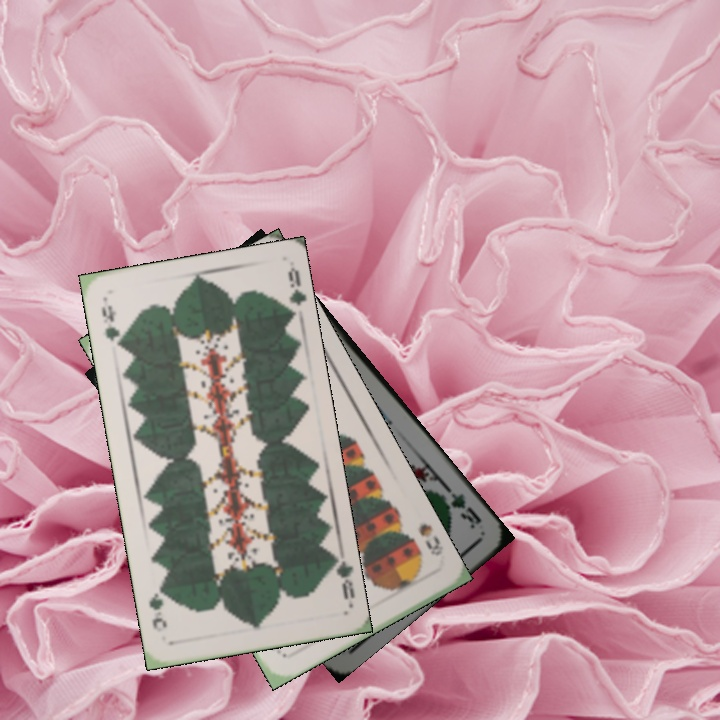G9: (325, 551, 358, 603), (97, 298, 126, 351)
GK: (435, 483, 485, 532)
S8: (414, 519, 446, 559)
